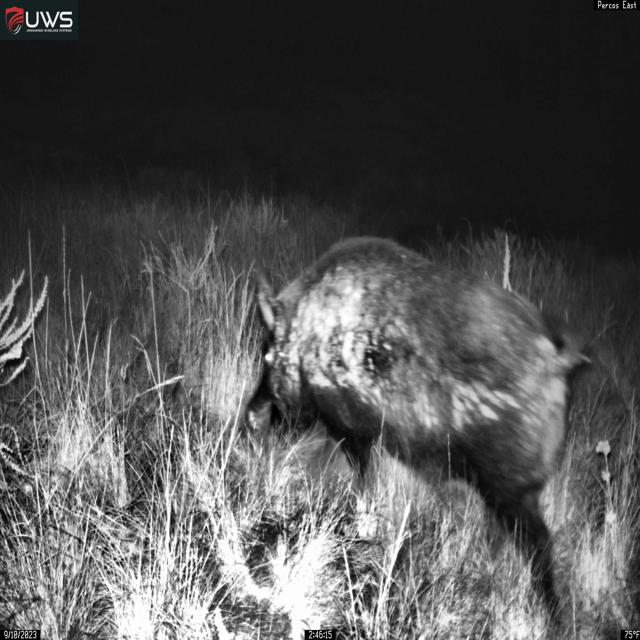pig: (242, 235, 592, 636)
